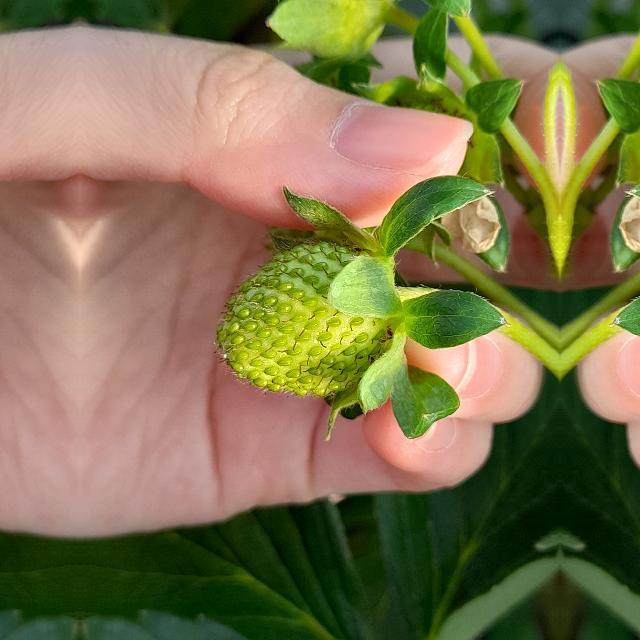Health_25: (212, 235, 384, 398)
